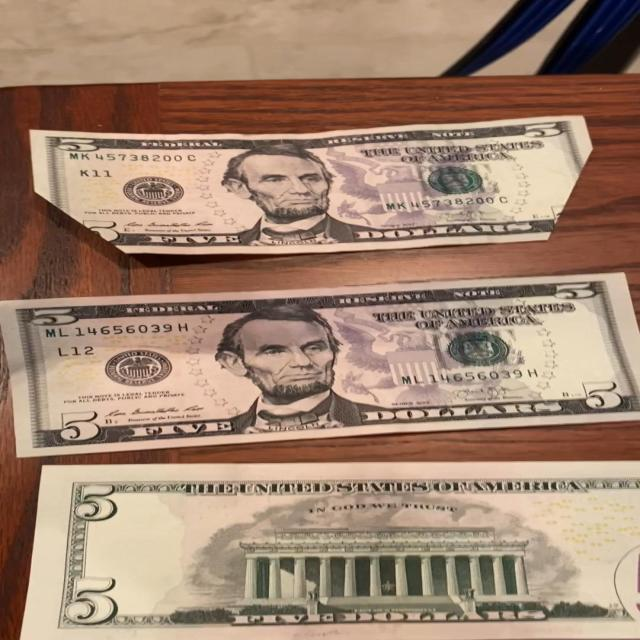5-Back: (0, 463, 640, 640)
5-Front: (0, 273, 640, 466), (18, 114, 617, 263)
